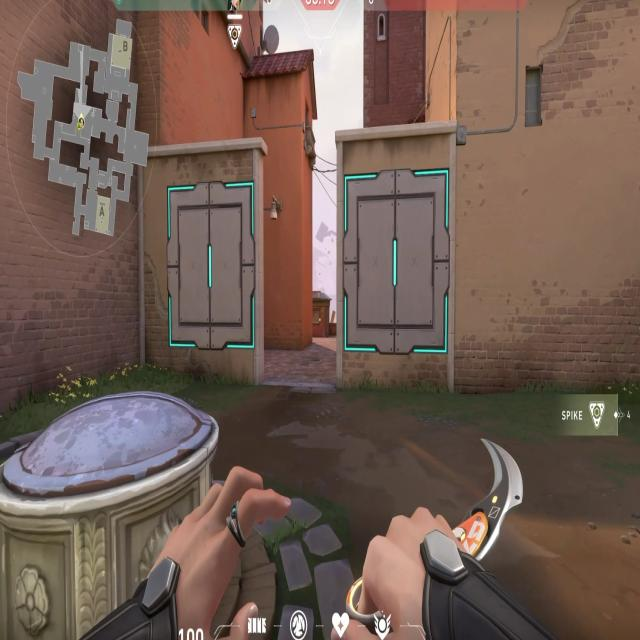Mid_Wall: (332, 136, 458, 380), (154, 141, 259, 380)
